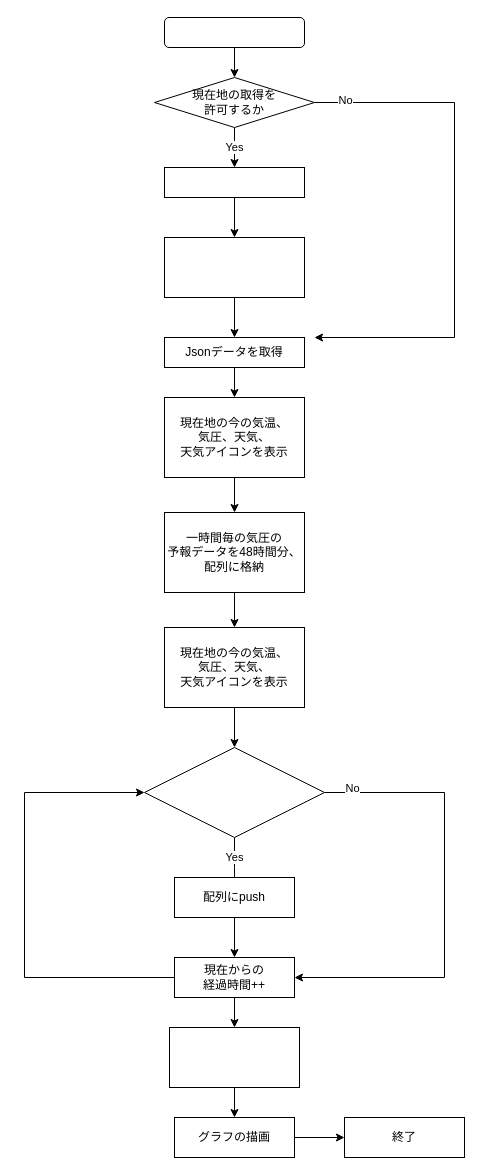
The diagram is 482 pixels wide and 1175 high, and some of its shapes have lost their labels. Here are the shapes that lost their labels. From the top down, the box of each, then its label:
(164, 16, 304, 48): 開始
(164, 166, 304, 198): lat ← 緯度 lon ← 経度
(164, 236, 304, 298): openweathermap APIを 取得した座標で 非同期に叩く
(144, 746, 324, 838): 現在からの経過時間を 4で割った余りが０
(168, 1026, 300, 1088): 配列をグラフの 描画関数のデータプロパティに渡す
